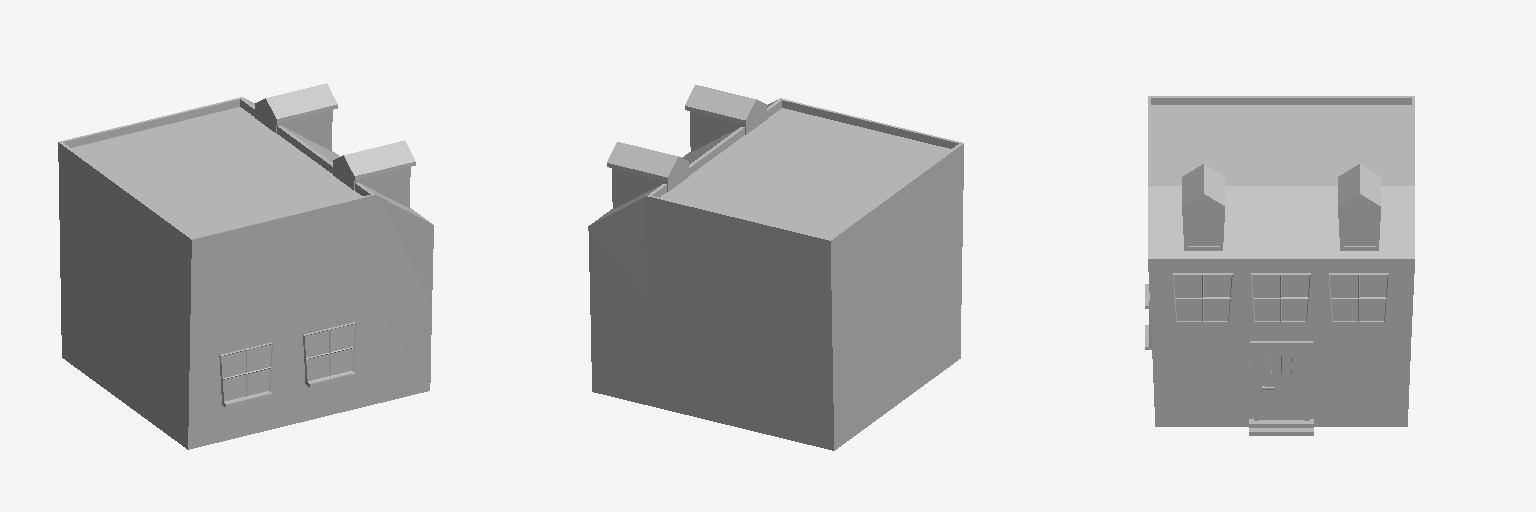
The model's file is Building 006.obj.
3 views of the same model, side by side, from view 1: azimuth 30°, elevation 25°; view 2: azimuth 150°, elevation 25°; view 3: azimuth 270°, elevation 25° (orthographic).
Visible parts, largest first — view 1: Mesh; view 2: Mesh; view 3: Mesh.
Part boxes in pixels (x1,y1,x2,y2): Mesh: (58,83,433,449); Mesh: (588,85,963,450); Mesh: (1145,96,1414,435).
Size of the model in its own units: 5.92 by 5.06 by 5.33.